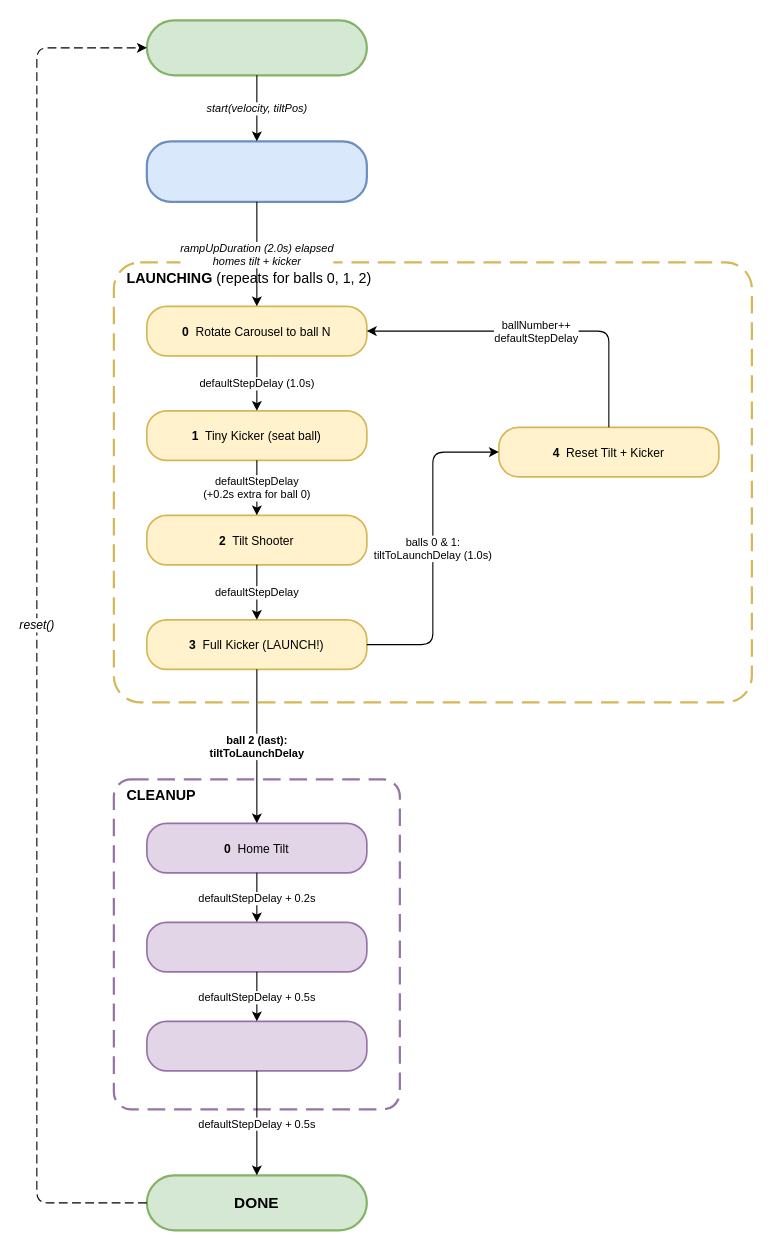
Image size: 771x1250. Some labels were removed from this diagram. Each missing label, with the centre of its shape:
"1 Home Kicker" goes at (256,946).
"2 Reset Carousel & Stop Shooter" goes at (256,1045).
"IDLE" goes at (256,47).
"RAMPING Flywheel spin-up" goes at (256,171).
